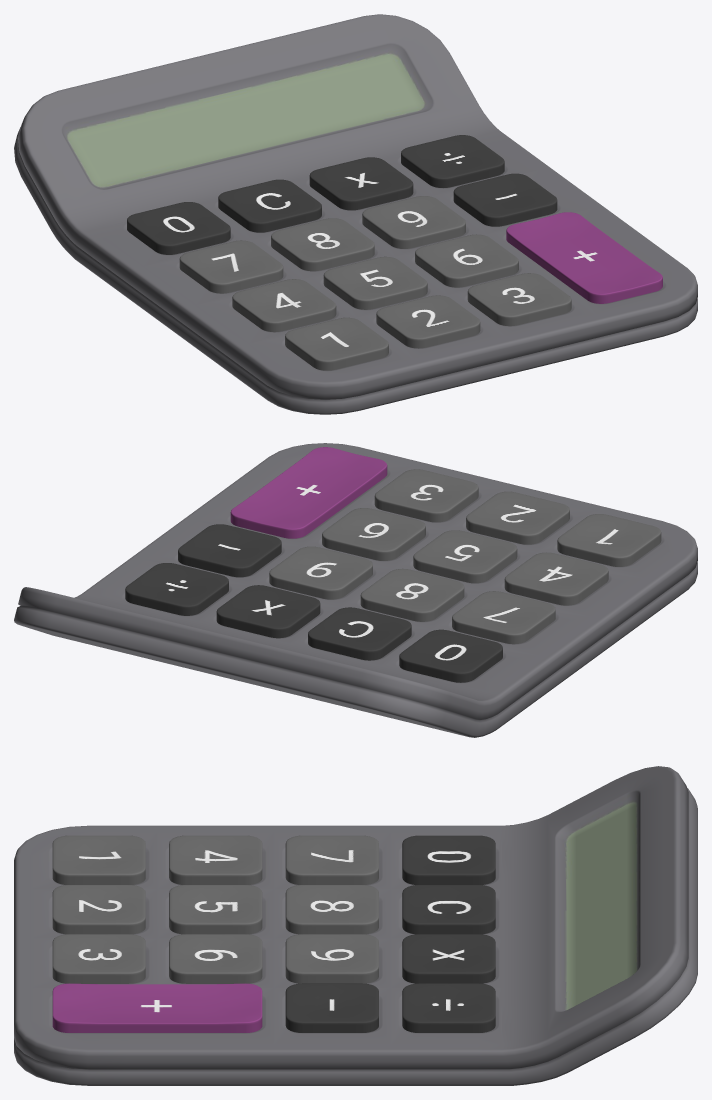
The model's file is calculator.glb.
3 renders of one model, top to bottom at view 1: azimuth 30°, elevation 25°; view 2: azimuth 150°, elevation 25°; view 3: azimuth 270°, elevation 25°, orthographic. The views are drawn at different scales.
Visible parts, largest first — view 1: Calculator, Button.009, Button 7, Button multiply, Button substract, Button 2, Button 3, Button 4, Button 5, Button 6, Button 1, Button Zero (+4 smaller); view 2: Calculator, Button.009, Button 3, Button 5, Button multiply, Button 4, Button 9, Button 2, Button 8, Button 1, Button substract, Button 7 (+4 smaller); view 3: Calculator, Button.009, Button devide, Button 9, Button clear, Button 3, Button 4, Button 6, Button 1, Button substract, Button multiply, Button 7 (+4 smaller).
Part boxes in pixels (x1,y1,x2,y2): Calculator: (14, 14, 697, 414); Button.009: (506, 212, 662, 303); Button 7: (179, 240, 283, 293); Button multiply: (309, 157, 413, 210); Button substract: (453, 173, 557, 226); Button 2: (376, 295, 480, 348); Button 3: (467, 273, 571, 326); Button 4: (232, 279, 336, 332); Button 5: (323, 256, 427, 309); Button 6: (415, 234, 518, 287); Button 1: (285, 317, 388, 370); Button Zero: (218, 179, 321, 232); Calculator: (14, 443, 697, 737); Button.009: (230, 447, 387, 538); Button 3: (374, 469, 478, 522); Button 5: (413, 530, 517, 583); Button multiply: (216, 585, 320, 638); Button 4: (504, 552, 608, 605); Button 9: (269, 546, 372, 599); Button 2: (466, 491, 569, 544); Button 8: (360, 568, 464, 621); Button 1: (557, 514, 661, 566); Button substract: (178, 524, 281, 577); Button 7: (452, 591, 555, 644); Calculator: (14, 766, 697, 1085); Button.009: (52, 983, 262, 1032); Button devide: (402, 983, 495, 1032); Button 9: (285, 934, 378, 983); Button clear: (402, 835, 495, 884); Button 3: (52, 934, 145, 983); Button 4: (169, 835, 262, 884); Button 6: (169, 934, 262, 983); Button 1: (52, 835, 145, 884); Button substract: (285, 983, 378, 1032); Button multiply: (402, 934, 495, 983); Button 7: (285, 835, 378, 884).
Size of the model in its own units: 0.15 by 0.0347 by 0.1905.
Materials: 4 (4 with a texture image).
